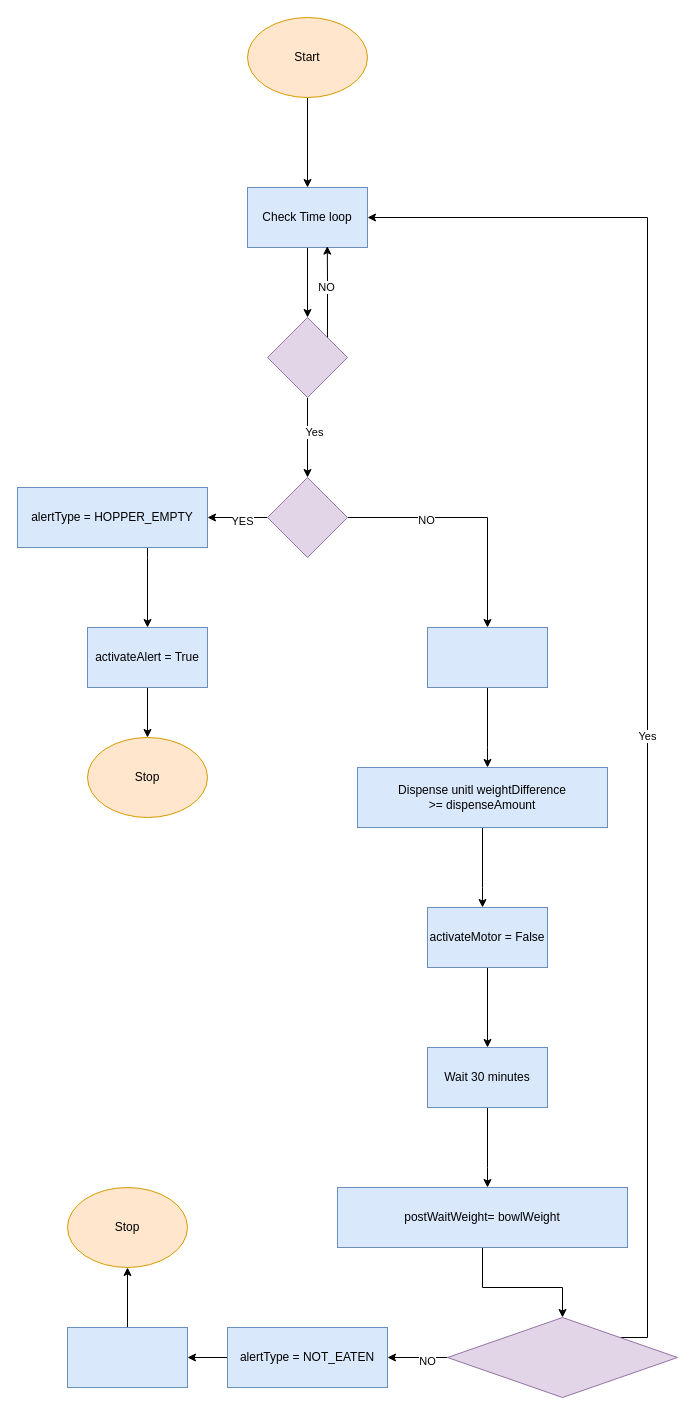
Some shapes in this 695 by 1415 pixel diagram are drawn without their labels. The shapes that lost their labels are listed below. From the top down, each one's box as (x1, y1, x2, y2) in pixels, then its label:
(266, 316, 348, 398): is feeding time?
(266, 476, 348, 558): is hopper empty?
(426, 626, 548, 688): activateMotor= True
(66, 1326, 188, 1388): activateAlert=True
(446, 1316, 678, 1398): Has bowlWeight decreased?
